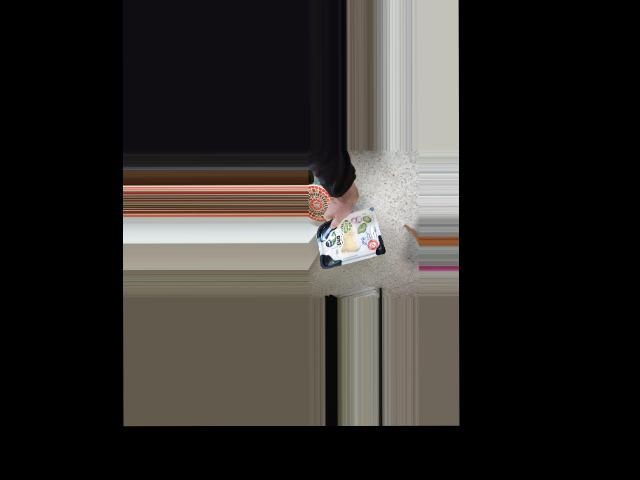cheese: (315, 207, 382, 269)
